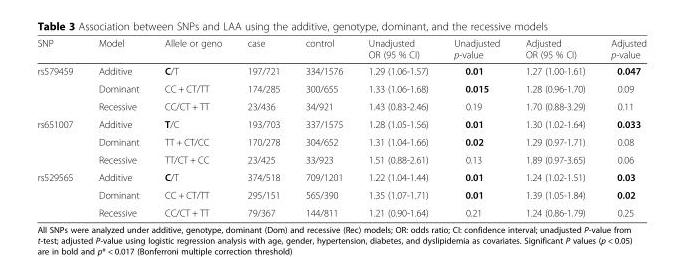table: (36, 37, 646, 217)
table column: (355, 37, 440, 217), (512, 37, 597, 217), (151, 37, 234, 217), (440, 37, 512, 217), (85, 37, 151, 217), (292, 37, 355, 217), (234, 37, 292, 217), (36, 37, 85, 217), (597, 37, 646, 217)
table column header: (36, 37, 646, 62)
table row: (36, 37, 646, 62), (36, 79, 646, 97), (36, 114, 646, 132), (36, 132, 646, 150), (36, 150, 646, 168), (36, 185, 646, 203), (36, 62, 646, 79), (36, 97, 646, 114), (36, 168, 646, 185), (36, 203, 646, 217)
table spanning cell: (36, 114, 85, 168), (36, 62, 85, 114), (36, 168, 85, 217)
